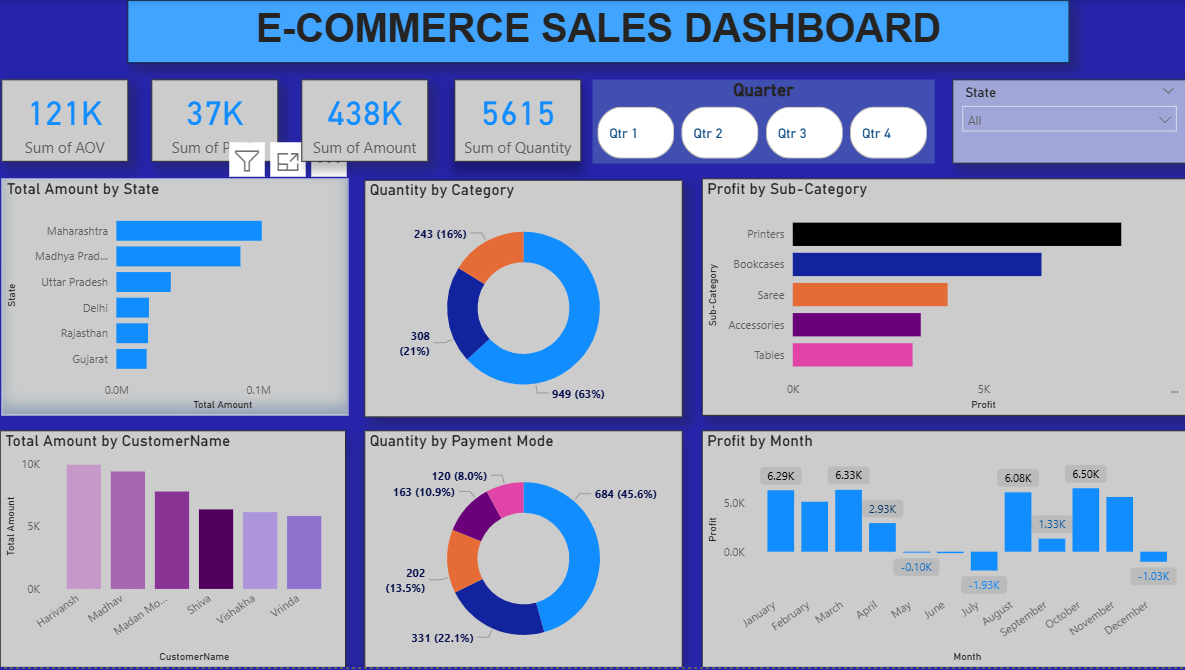

This screenshot's page, from the dashboard's own definition file:
{"tool":"powerbi","page":{"name":"Page 1","canvas":[1280,720],"ordinal":0},"visuals":[{"type":"card","fields":{"Values":["Sum(Details.Profit)"]},"box":[163.5,86.5,136.5,88.5],"z":0},{"type":"card","fields":{"Values":["Sum(Details.Quantity)"]},"box":[490.4,86.5,136.5,88.5],"z":1000},{"type":"barChart","fields":{"Category":["Orders.State"],"Y":["Sum(Details.Amount)"]},"box":[1.8,193,373.7,256.1],"z":2000},{"type":"card","fields":{"Values":["Sum(Details.Amount)"]},"box":[325,86.5,136.5,88.5],"z":3000},{"type":"card","fields":{"Values":["Sum(Details.AOV)"]},"box":[1.9,86.5,136.5,88.5],"z":4000},{"type":"textbox","box":[137.6,0,1016.9,68],"z":5000},{"type":"barChart","fields":{"Y":["Sum(Details.Profit)"],"Category":["Details.Sub-Category"]},"box":[757.8,192.7,523,255.8],"z":6000},{"type":"donutChart","fields":{"Y":["CountNonNull(Details.Quantity)"],"Category":["Details.Category"]},"box":[393.5,194.3,343.3,255.8],"z":7000},{"type":"columnChart","fields":{"Y":["Sum(Details.Amount)"],"Category":["Orders.CustomerName"]},"box":[0,464.9,373,256],"z":8000},{"type":"donutChart","fields":{"Y":["CountNonNull(Details.Quantity)"],"Category":["Details.PaymentMode"]},"box":[393.5,464.7,343.3,255.8],"z":9000},{"type":"columnChart","fields":{"Y":["Sum(Details.Profit)"],"Category":["Orders.Order Date.Variation.Date Hierarchy.Month"]},"box":[757.8,464.7,523,255.8],"z":10000},{"type":"advancedSlicerVisual","fields":{"Values":["Orders.Order Date.Variation.Date Hierarchy.Quarter"]},"box":[639.6,85.8,369.2,90.7],"z":11000},{"type":"slicer","fields":{"Values":["Orders.State"]},"box":[1028.2,85.8,252.6,90.7],"z":12000}]}

Visuals, with their boxes in screenshot pixels (x1, y1, x2, y2), scaled from the page's 1280x720 canvas onto the 1185x670 screenshot:
card - Sum(Details.Profit): (151, 80, 278, 163)
card - Sum(Details.Quantity): (454, 80, 580, 163)
barChart - Orders.State x Sum(Details.Amount): (2, 180, 348, 418)
card - Sum(Details.Amount): (301, 80, 427, 163)
card - Sum(Details.AOV): (2, 80, 128, 163)
textbox: (127, 0, 1069, 63)
barChart - Sum(Details.Profit) x Details.Sub-Category: (702, 179, 1184, 417)
donutChart - CountNonNull(Details.Quantity) x Details.Category: (364, 181, 682, 419)
columnChart - Sum(Details.Amount) x Orders.CustomerName: (0, 433, 345, 669)
donutChart - CountNonNull(Details.Quantity) x Details.PaymentMode: (364, 432, 682, 669)
columnChart - Sum(Details.Profit) x Orders.Order Date.Variation.Date Hierarchy.Month: (702, 432, 1184, 669)
advancedSlicerVisual - Orders.Order Date.Variation.Date Hierarchy.Quarter: (592, 80, 934, 164)
slicer - Orders.State: (952, 80, 1184, 164)
